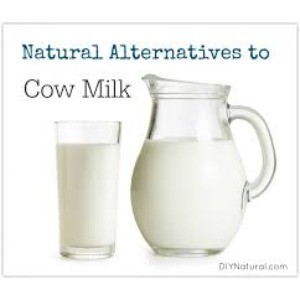milk_brain food: (140, 137, 232, 258), (50, 135, 124, 261)
